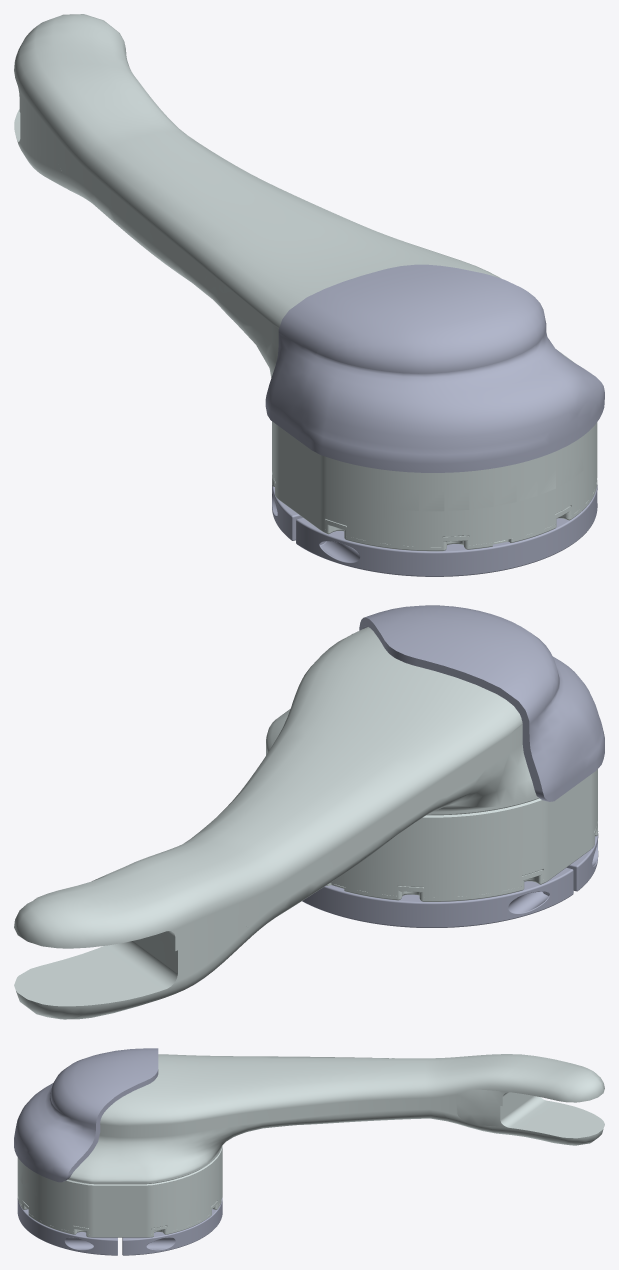
File: thigh.obj
3 views of the same model, one above another, from view 1: azimuth 30°, elevation 25°; view 2: azimuth 150°, elevation 25°; view 3: azimuth 270°, elevation 25° (orthographic). The views are drawn at different scales.
Visible parts, largest first — view 1: thigh.FL0815; view 2: thigh.FL0815; view 3: thigh.FL0815.
Part boxes in pixels (left/top/right/bottom): thigh.FL0815: left=14, top=14, right=604, bottom=576; thigh.FL0815: left=14, top=605, right=604, bottom=1019; thigh.FL0815: left=14, top=1048, right=604, bottom=1255.
Bounding box in the file's own units: 0.0969 × 0.0734 × 0.2779.
